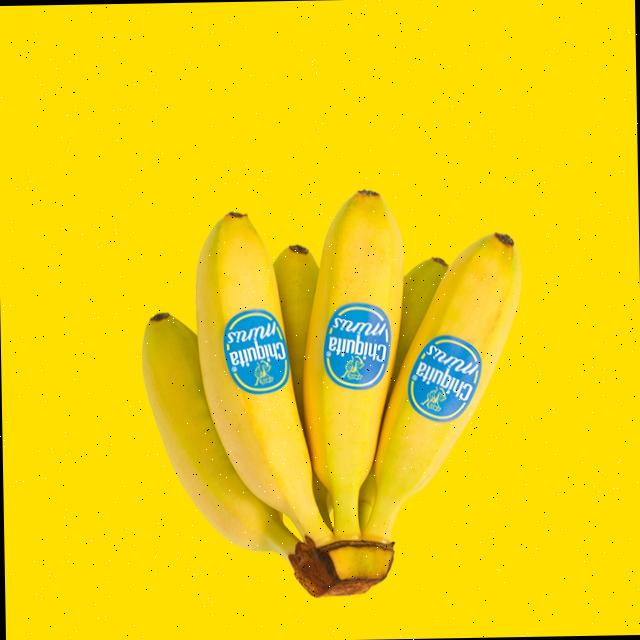Pisang: (139, 188, 527, 601), (354, 232, 526, 548), (193, 210, 334, 560), (141, 308, 304, 564), (298, 188, 410, 546)
